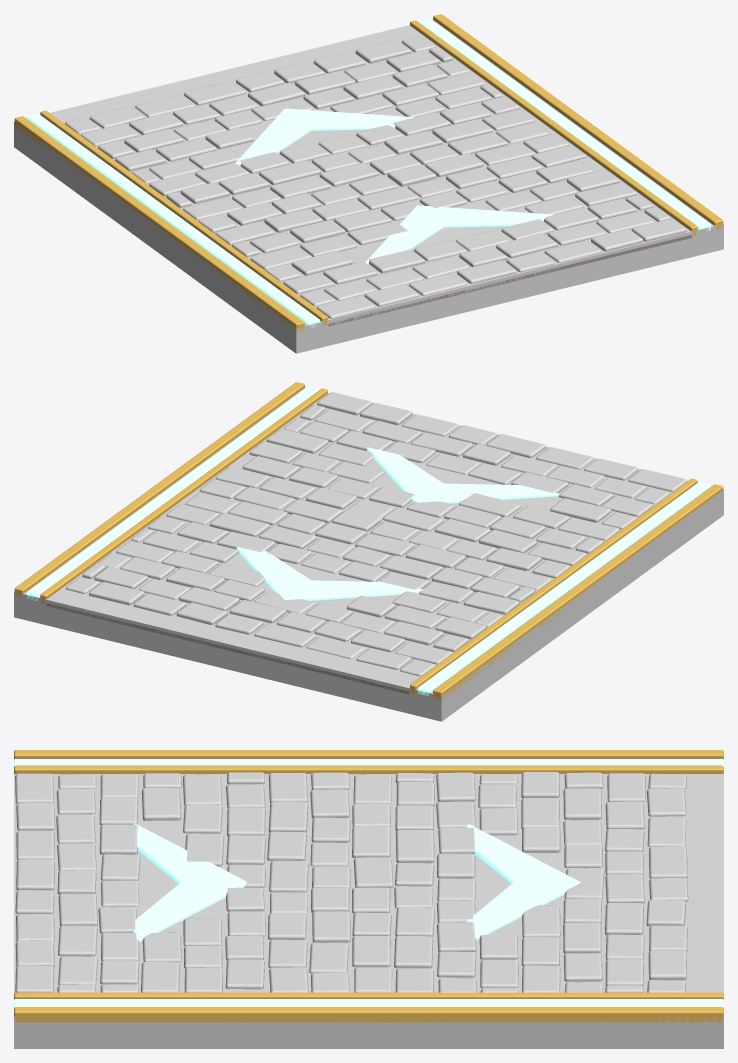
Rendered from Lobby_PROP_RoadCobble.fbx.
3 renders of one model, top to bottom at view 1: azimuth 30°, elevation 25°; view 2: azimuth 150°, elevation 25°; view 3: azimuth 270°, elevation 25°, orthographic. The views are drawn at different scales.
Parts seen in each view (by area): view 1: Lobby_PROP_RoadCobble__Cobble, Lobby_PROP_RoadCobble__MarbleShade, Lobby_PROP_RoadCobble__NeonCyan, Lobby_PROP_RoadCobble__Gold, Lobby_PROP_RoadCobble__Grout; view 2: Lobby_PROP_RoadCobble__Cobble, Lobby_PROP_RoadCobble__MarbleShade, Lobby_PROP_RoadCobble__NeonCyan, Lobby_PROP_RoadCobble__Gold, Lobby_PROP_RoadCobble__Grout; view 3: Lobby_PROP_RoadCobble__Cobble, Lobby_PROP_RoadCobble__MarbleShade, Lobby_PROP_RoadCobble__Gold, Lobby_PROP_RoadCobble__NeonCyan.
Part boxes in pixels (left/top/right/bottom): Lobby_PROP_RoadCobble__Cobble: left=65, top=36, right=686, bottom=318; Lobby_PROP_RoadCobble__MarbleShade: left=14, top=19, right=723, bottom=353; Lobby_PROP_RoadCobble__NeonCyan: left=26, top=18, right=711, bottom=327; Lobby_PROP_RoadCobble__Gold: left=14, top=14, right=723, bottom=331; Lobby_PROP_RoadCobble__Grout: left=328, top=235, right=691, bottom=326; Lobby_PROP_RoadCobble__Cobble: left=66, top=392, right=687, bottom=676; Lobby_PROP_RoadCobble__MarbleShade: left=14, top=387, right=723, bottom=721; Lobby_PROP_RoadCobble__NeonCyan: left=26, top=386, right=711, bottom=695; Lobby_PROP_RoadCobble__Gold: left=14, top=382, right=723, bottom=700; Lobby_PROP_RoadCobble__Grout: left=46, top=603, right=409, bottom=694; Lobby_PROP_RoadCobble__Cobble: left=15, top=772, right=688, bottom=992; Lobby_PROP_RoadCobble__MarbleShade: left=14, top=759, right=723, bottom=1048; Lobby_PROP_RoadCobble__Gold: left=14, top=750, right=723, bottom=1022; Lobby_PROP_RoadCobble__NeonCyan: left=14, top=759, right=723, bottom=1007.
Size of the model in its own units: 14 by 0.93 by 16.
